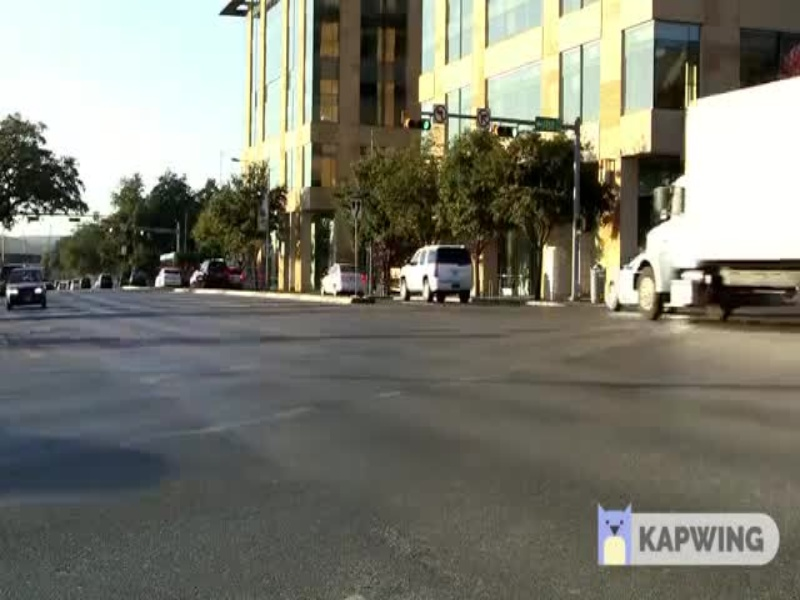car: (316, 258, 371, 307)
semi: (636, 69, 800, 319)
suv: (399, 235, 491, 299)
